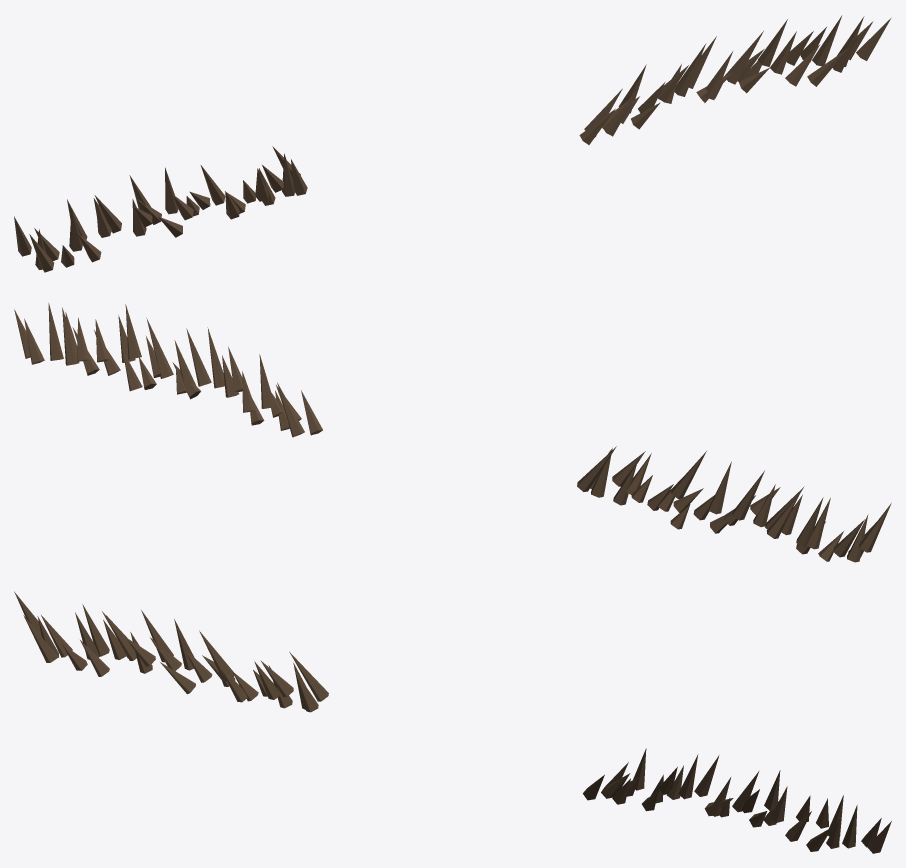
The model's file is thick.glb.
3 renders of one model, top to bottom at view 1: azimuth 30°, elevation 25°; view 2: azimuth 150°, elevation 25°; view 3: azimuth 330°, elevation 25°, orthographic.
Bounding box in the file's own units: 0.1814 × 0.0161 × 0.0106.
